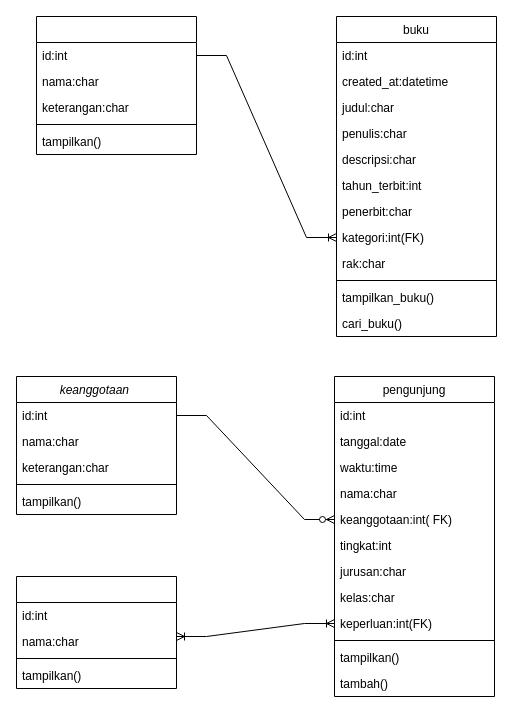
The diagram is 513 pixels wide and 713 high, and some of its shapes have lost their labels. Here are the shapes that lost their labels. From the top down, the box of each, then its label:
(36, 16, 196, 154): kategori_buku
(16, 576, 176, 688): keperluan
